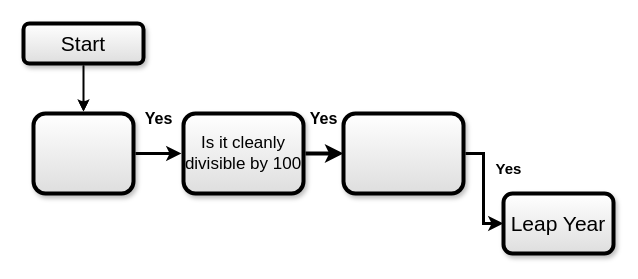
The diagram is 638 pixels wide and 279 high, and some of its shapes have lost their labels. Here are the shapes that lost their labels. From the top down, the centre of each, then its label:
point (84, 154): Is it cleanly divisible by 4
point (404, 154): Is it cleanly divisible by 400
